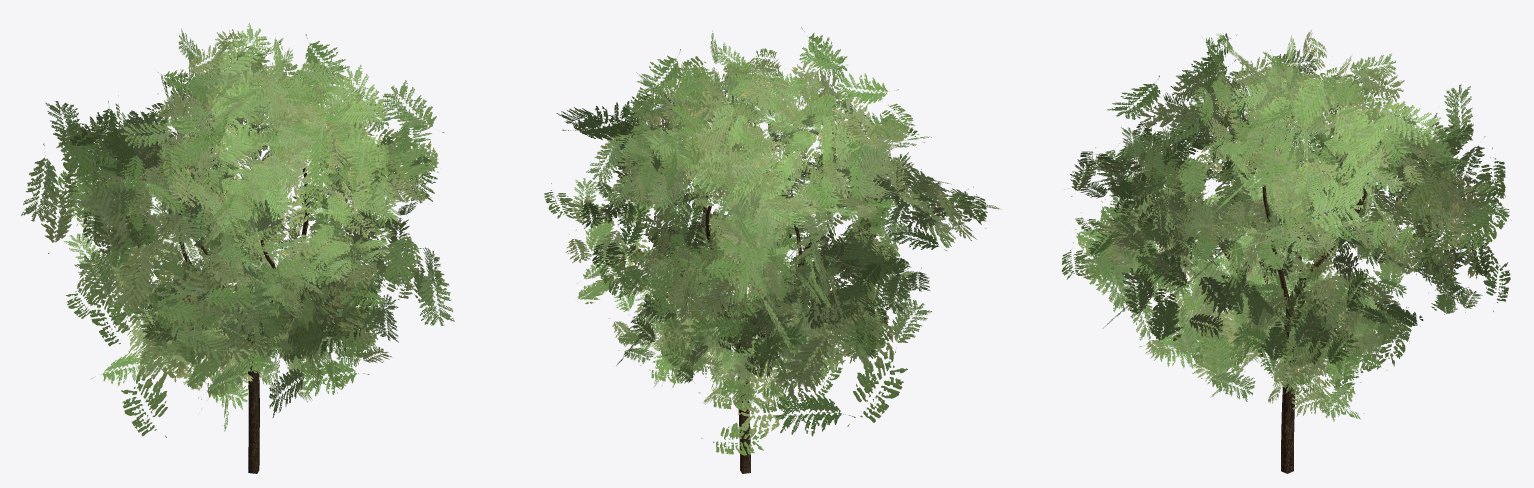
The model's file is tree_locust_v0_l1.glb.
3 renders of one model, left to right at view 1: azimuth 30°, elevation 25°; view 2: azimuth 150°, elevation 25°; view 3: azimuth 270°, elevation 25°, orthographic.
Parts seen in each view (by area): view 1: tree_locust_v0_l1; view 2: tree_locust_v0_l1; view 3: tree_locust_v0_l1.
Part boxes in pixels (x1,y1,x2,y2): tree_locust_v0_l1: [21, 23, 454, 473]; tree_locust_v0_l1: [544, 27, 1001, 473]; tree_locust_v0_l1: [1061, 30, 1511, 473].
Size of the model in its own units: 10.18 by 10.55 by 10.38.
Materials: 2 (2 with a texture image).
